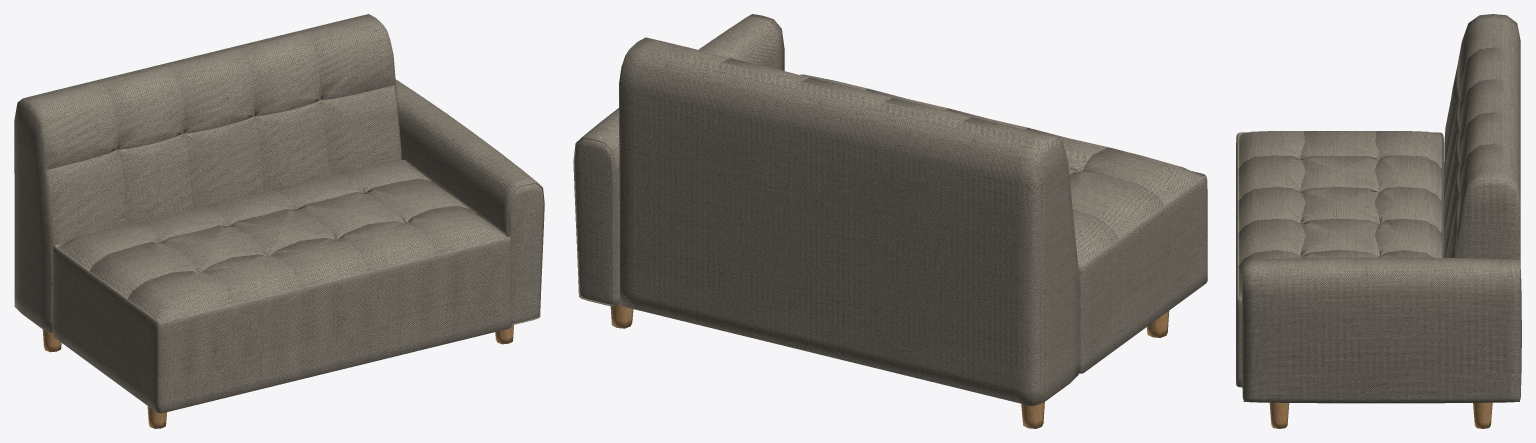
The model's file is design3.obj.
3 views of the same model, side by side, from view 1: azimuth 30°, elevation 25°; view 2: azimuth 150°, elevation 25°; view 3: azimuth 270°, elevation 25° (orthographic). The views are drawn at different scales.
Visible parts, largest first — view 1: Box018, Object004, Object005, Box016; view 2: Object004, Box018, Object005, Box016; view 3: Object005, Box018, Object004, Box016.
Part boxes in pixels (box(x1,y1,x2,y2)): Box018: box(52, 160, 511, 413); Object004: box(14, 14, 401, 333); Object005: box(395, 79, 544, 324); Box016: box(42, 324, 513, 428); Object004: box(619, 37, 1078, 405); Box018: box(800, 74, 1207, 373); Object005: box(573, 14, 784, 306); Box016: box(610, 303, 1169, 428); Object005: box(1241, 257, 1521, 403); Box018: box(1236, 131, 1443, 387); Object004: box(1444, 14, 1520, 264); Box016: box(1269, 402, 1492, 428).
Size of the model in its own units: 1217 by 732 by 789.
2 materials, 2 textured.
